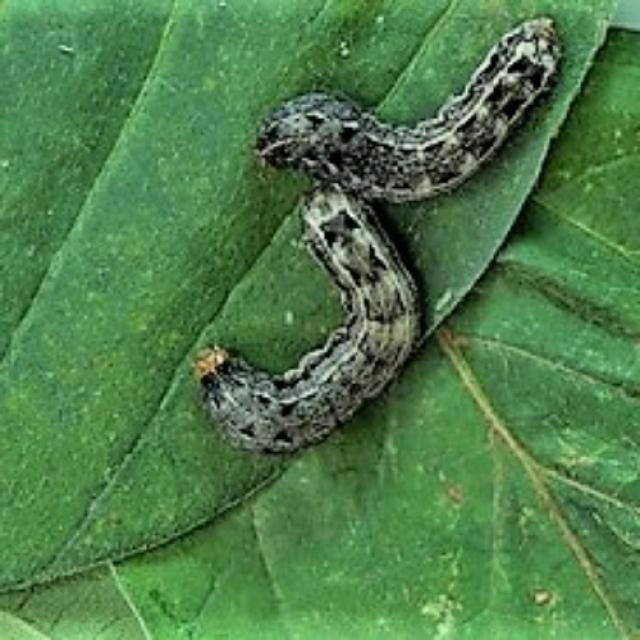armyworm: (190, 12, 564, 456)
